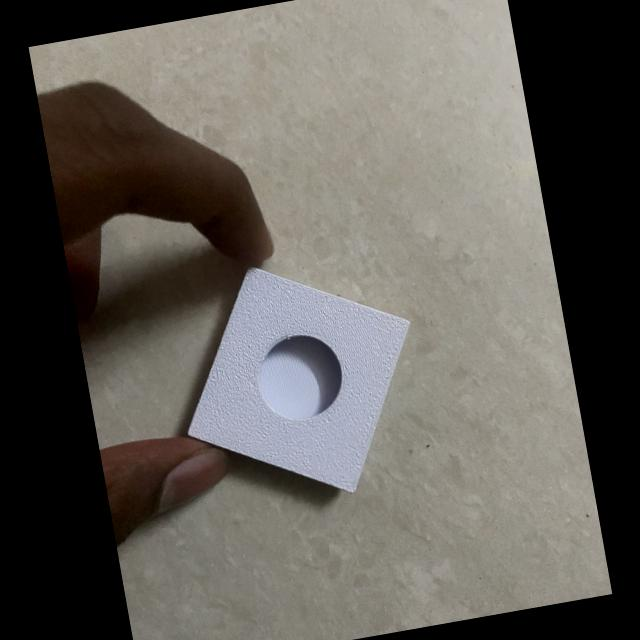RASPBERY PI CAM ENCLOSURE: (160, 241, 438, 518)
